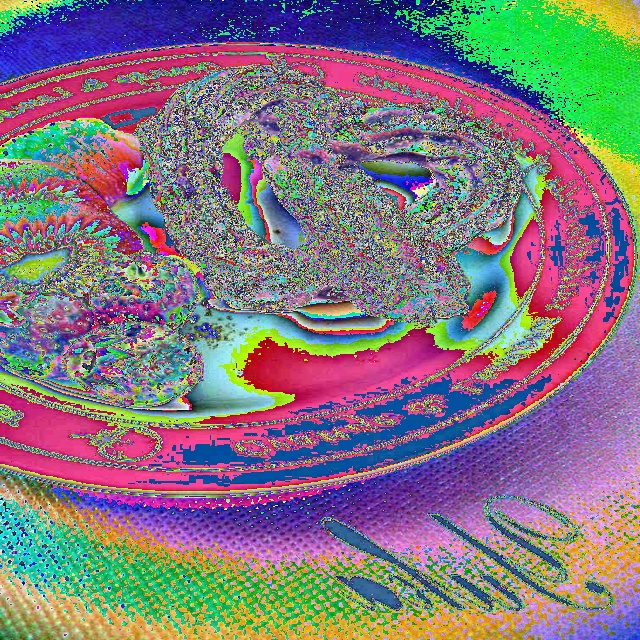background: (0, 63, 522, 407)
